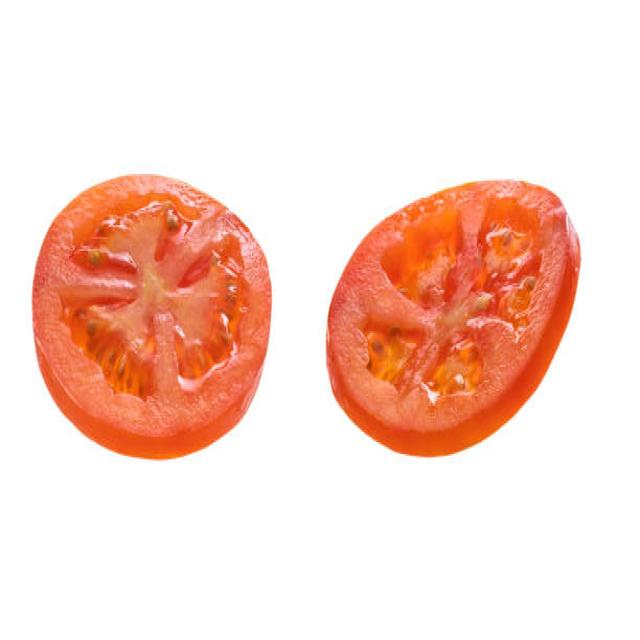Tomato: (33, 164, 291, 466), (332, 157, 578, 462)
